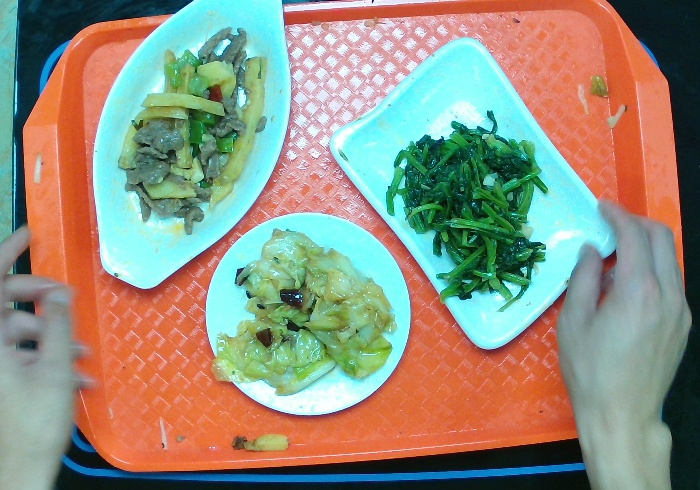RJxy-Si_Fang_Ao_Bian_Wan: (326, 33, 622, 354)
RJxy-Xiao_Yuan_Die: (201, 211, 414, 421)
RJxy-Yu_Pan: (84, 1, 298, 301)
